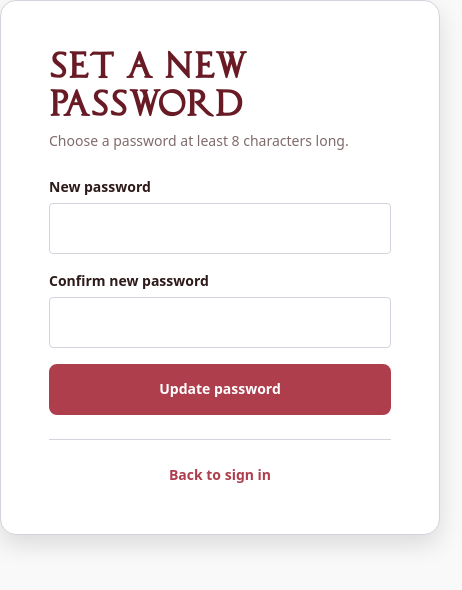
Test: ResetPasswordPage — validation › shows an error when password is shorter than 8 characters
Type "short" into the password field labelled "New password".
click(220, 228); type("short")  # box x1=49 y1=203 x2=391 y2=254
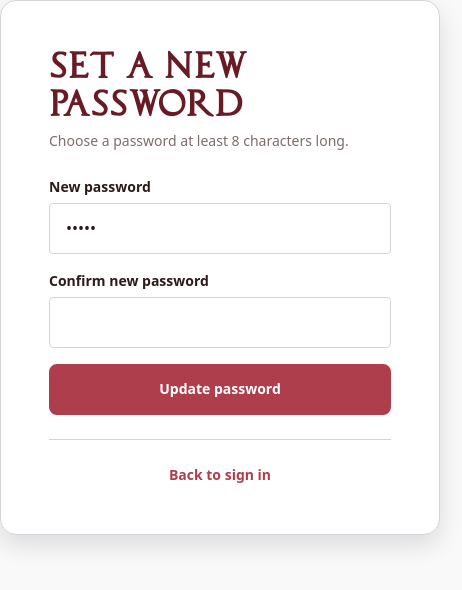
Type "short" into the password field labelled "Confirm new password".
click(220, 322); type("short")  # box x1=49 y1=296 x2=391 y2=348
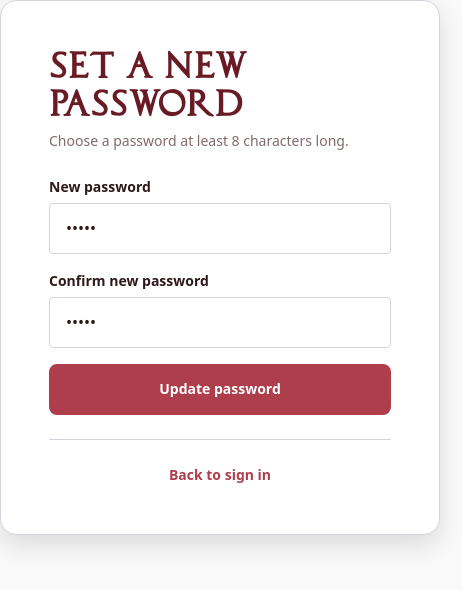
Click the button "Update password".
click(220, 389)  # box x1=49 y1=364 x2=391 y2=414
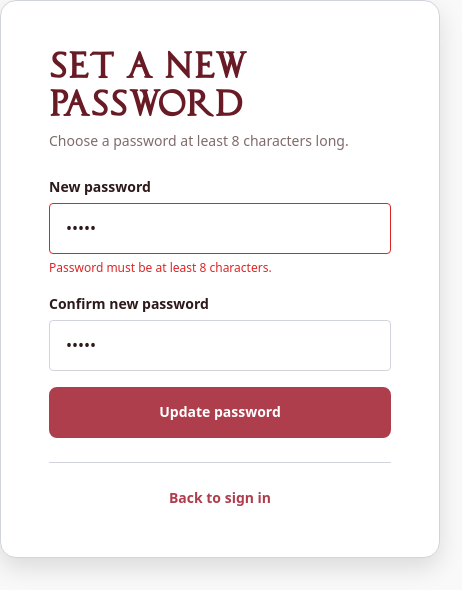
Check: the message shows "at least 8 characters", box x1=49 y1=259 x2=272 y2=276
